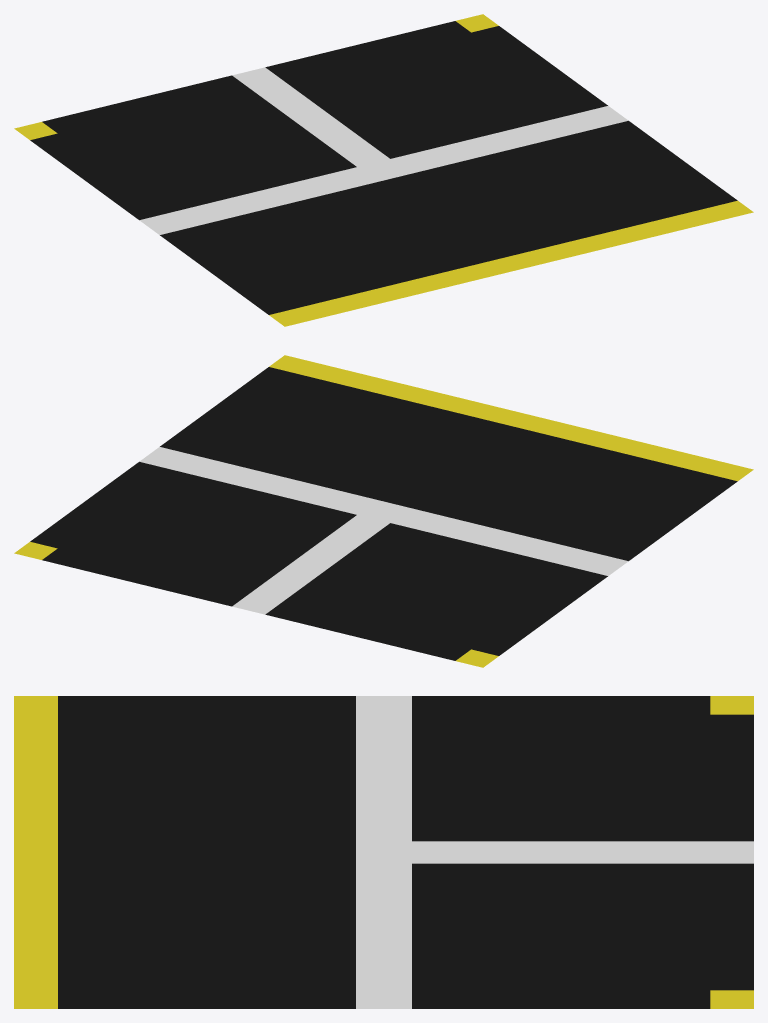
The model's file is ThreeWayRoad.fbx.
The picture shows the model from 3 angles, top to bottom: view 1: azimuth 30°, elevation 25°; view 2: azimuth 150°, elevation 25°; view 3: azimuth 270°, elevation 25°; orthographic projection. The views are drawn at different scales.
Visible parts, largest first — view 1: Plane.001; view 2: Plane.001; view 3: Plane.001.
Boxes of the visible parts, bbox=[...] form: Plane.001: bbox=[14, 14, 753, 326]; Plane.001: bbox=[14, 355, 753, 667]; Plane.001: bbox=[14, 696, 753, 1008].
Bounding box in the file's own units: 1000 × 0.000163 × 1000.
